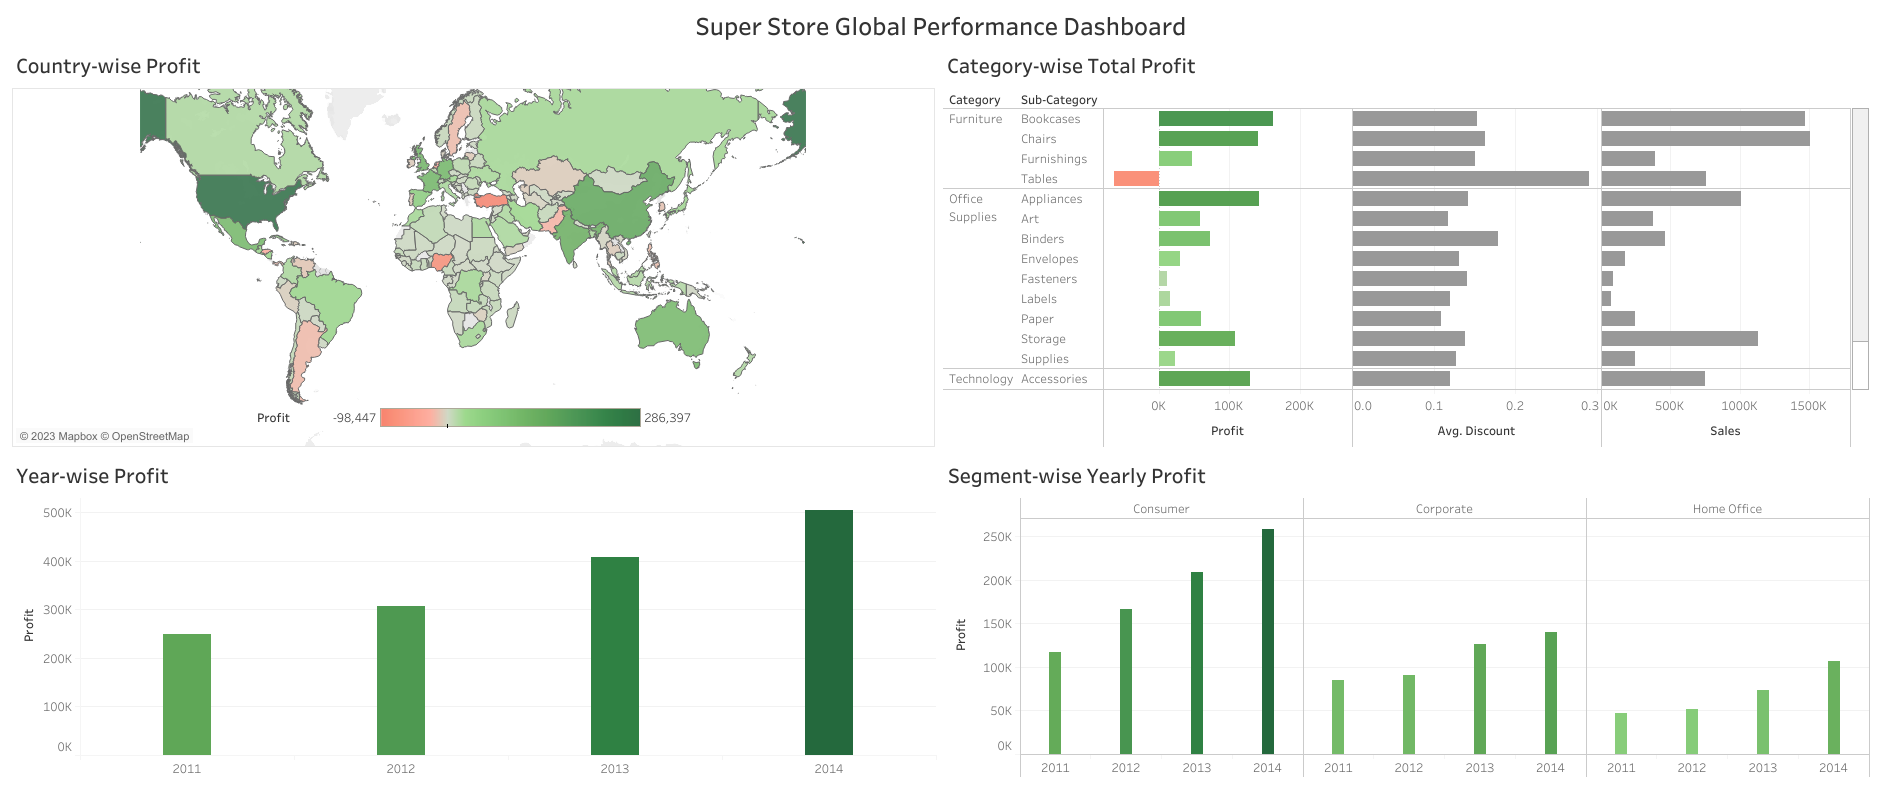

Layout of this report page (visuals, bound fields, positions):
{"tool":"tableau","page":{"name":"Global Performance Dashboard","canvas":[1000,1000],"units":"permille","ordinal":0},"visuals":[{"type":"title","box":[4.7,8.8,990.6,42]},{"type":"worksheet","title":"Global Profit Indicator","mark":"Automatic","box":[4.7,50.9,494.5,520.8]},{"type":"worksheet","title":"Categorical Profit","mark":"Automatic","rows":["Category","Sub-Category"],"cols":["Profit","Discount","Sales"],"box":[499.2,50.9,496.2,520.8]},{"type":"legend","title":"Global Profit Indicator","param":"[federated.1v8wu441e51kbp1al5wzu09cazhd].[sum:Profit:qk]","box":[136.3,512.2,233.5,31]},{"type":"worksheet","title":"Year-wise Profit","mark":"Bar","rows":["Profit"],"cols":["Order Date"],"box":[4.7,571.7,494.8,419.4]},{"type":"worksheet","title":"Segment-wise Profit","mark":"Bar","rows":["Profit"],"cols":["Segment","Order Date"],"box":[499.4,571.7,495.9,419.4]}]}

Visuals, with their boxes on the dashboard's canvas, which has no fixed pixel size, in thousandths of its width and height (x1, y1, x2, y2). These are canvas units, not pixel positions in the 1881x788 screenshot, which may show the page scaled, cropped or inside an application window:
title: box(5, 9, 995, 51)
"Global Profit Indicator" worksheet: box(5, 51, 499, 572)
"Categorical Profit" worksheet: box(499, 51, 995, 572)
"Global Profit Indicator" legend: box(136, 512, 370, 543)
"Year-wise Profit" worksheet (Bar marks): box(5, 572, 500, 991)
"Segment-wise Profit" worksheet (Bar marks): box(499, 572, 995, 991)
